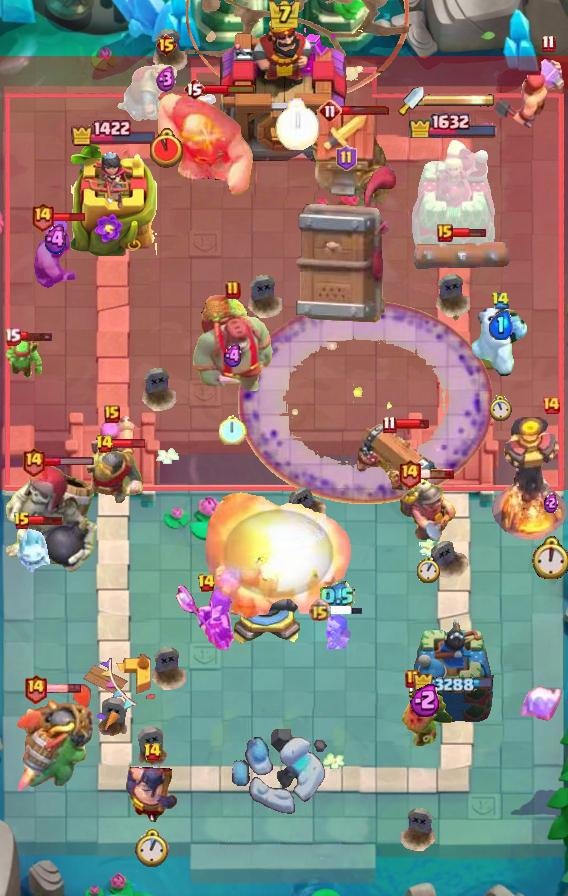balloon: (157, 92, 255, 204)
bandit: (397, 471, 459, 543)
bar: (409, 138, 497, 256)
bat: (14, 526, 58, 576)
battle-healer: (357, 420, 439, 504)
dart-goblin: (294, 164, 398, 323)
electro-dragon: (490, 414, 568, 540)
electro-giant: (2, 462, 102, 574)
electro-spirit: (410, 683, 442, 717), (320, 581, 355, 612), (42, 224, 71, 255), (488, 310, 513, 340), (223, 344, 246, 368), (156, 67, 176, 94), (544, 491, 558, 513)
elixir: (275, 98, 319, 150), (532, 537, 568, 580), (135, 829, 169, 868), (150, 128, 183, 168), (219, 415, 247, 446), (489, 394, 512, 421), (416, 557, 439, 583)
emote: (204, 83, 257, 95), (44, 456, 95, 468), (340, 105, 390, 116), (18, 330, 54, 342), (394, 418, 430, 430), (419, 468, 455, 480), (328, 604, 364, 616), (52, 211, 87, 223), (45, 682, 83, 693), (451, 227, 487, 238), (110, 439, 146, 450), (28, 514, 64, 525)
firecracker: (84, 449, 143, 505)
giant-snowball: (4, 336, 44, 380)
goblin: (324, 615, 351, 649)
goblin-barrel: (398, 679, 454, 751)
guard: (185, 0, 409, 102)
king-tower: (211, 7, 357, 181)
king-tower-bar: (424, 93, 496, 107)
lava-hound: (190, 289, 276, 401)
mighty-miner: (494, 51, 568, 133), (28, 217, 84, 293)
minion: (402, 238, 510, 274)
mirror: (518, 683, 564, 725)
monk: (124, 753, 180, 825)
night-witch: (11, 688, 95, 802)
queen-tower: (409, 616, 497, 731), (71, 144, 157, 255)
rage: (472, 308, 528, 380)
ram-rider: (113, 61, 219, 127)
rascal-boy: (175, 582, 237, 654)
rocket: (238, 300, 494, 504)
royal-recruit: (229, 565, 301, 649)
selected: (409, 110, 500, 138), (70, 119, 158, 147), (414, 673, 494, 695)
sparky: (305, 108, 391, 206)
text: (30, 200, 55, 231), (23, 672, 48, 703), (21, 447, 46, 477), (398, 459, 422, 490), (318, 99, 342, 123), (335, 145, 357, 171), (155, 33, 178, 57), (308, 599, 331, 622), (183, 77, 205, 101), (541, 395, 561, 415), (196, 573, 216, 593), (95, 434, 114, 454), (143, 742, 162, 762), (491, 290, 510, 309), (13, 511, 31, 531), (225, 280, 241, 300), (405, 669, 421, 689), (4, 327, 21, 345), (437, 224, 453, 242), (104, 405, 120, 423), (383, 414, 398, 433), (541, 35, 556, 53)
tombstone: (89, 414, 135, 472)
valkyrie: (195, 490, 357, 622)
